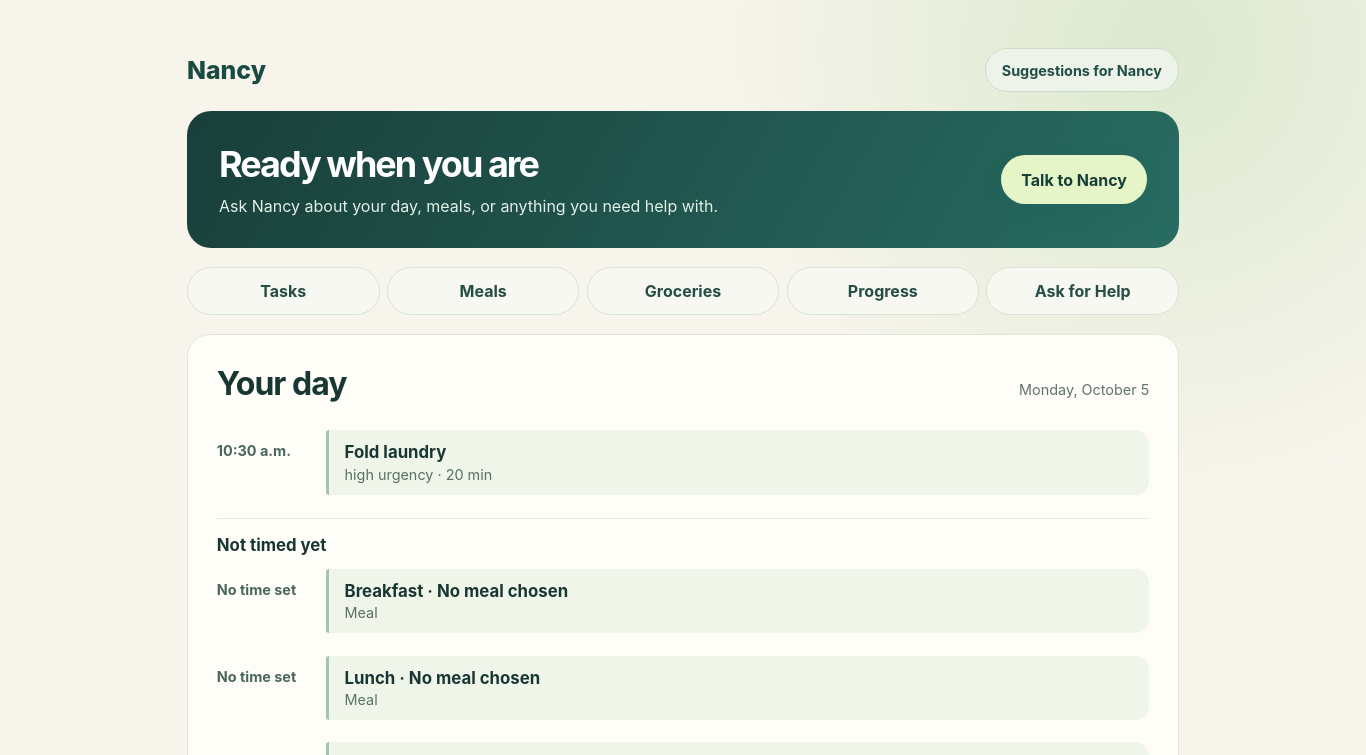
Test: My Day client workflow › shows tasks and meals independently before the check-in and keeps Talk in every view
This screenshot has width=1366, height=755.
Check: the heading "Your day" is shown, box [217,364,347,403]
Check: the text "10:30 a.m." is shown, box [217,442,291,459]
Click the button "Tasks": click(283, 291) [187,267,380,315]
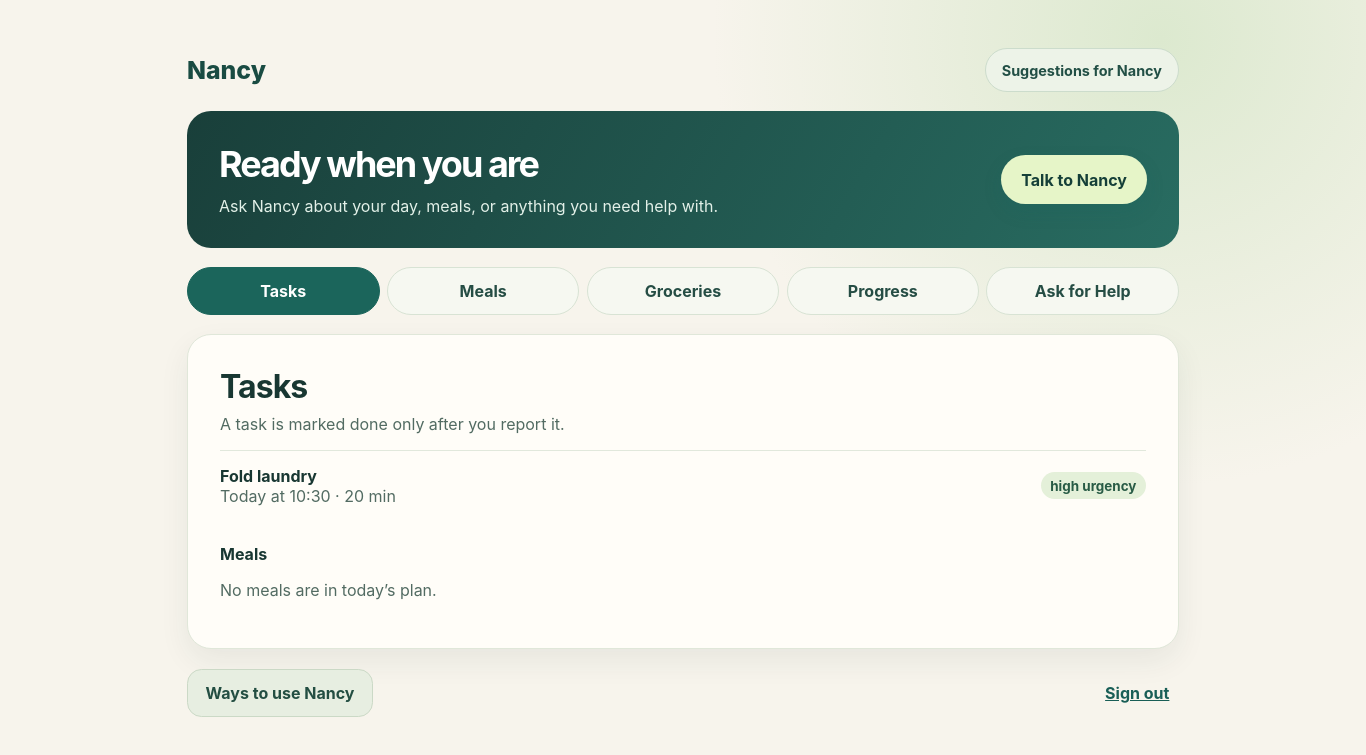
Check: the heading "Fold laundry" is shown, box [220,466,317,486]
Check: the element "Tasks" is shown, box [187,334,1179,649]
Click the button "Meals": click(483, 291) [387,267,580,315]
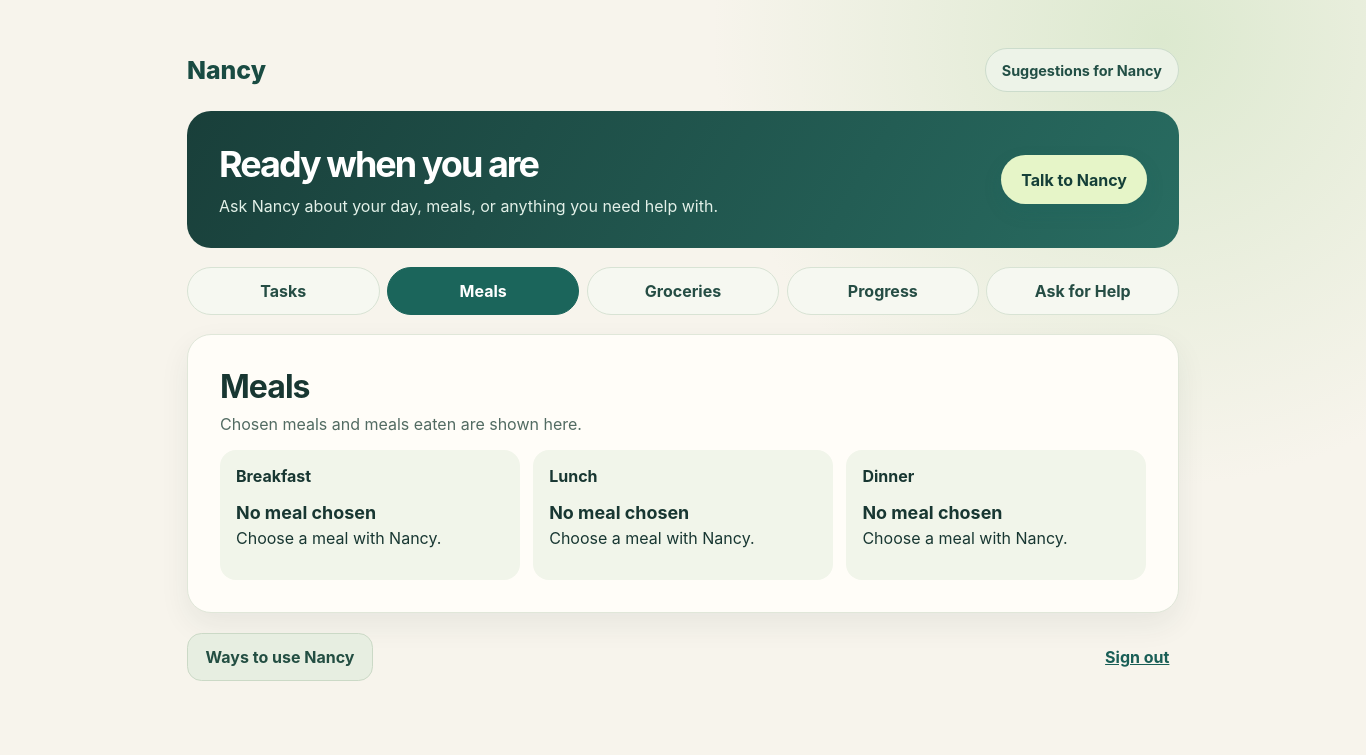
Check: the button "Talk to Nancy" is shown, box [1001,155,1147,204]
Check: the heading "Meals" is shown, box [220,367,310,406]
Check: the text "No meal chosen" is shown 3 times, box [236,502,376,523]; [549,502,689,523]; [862,502,1002,523]
